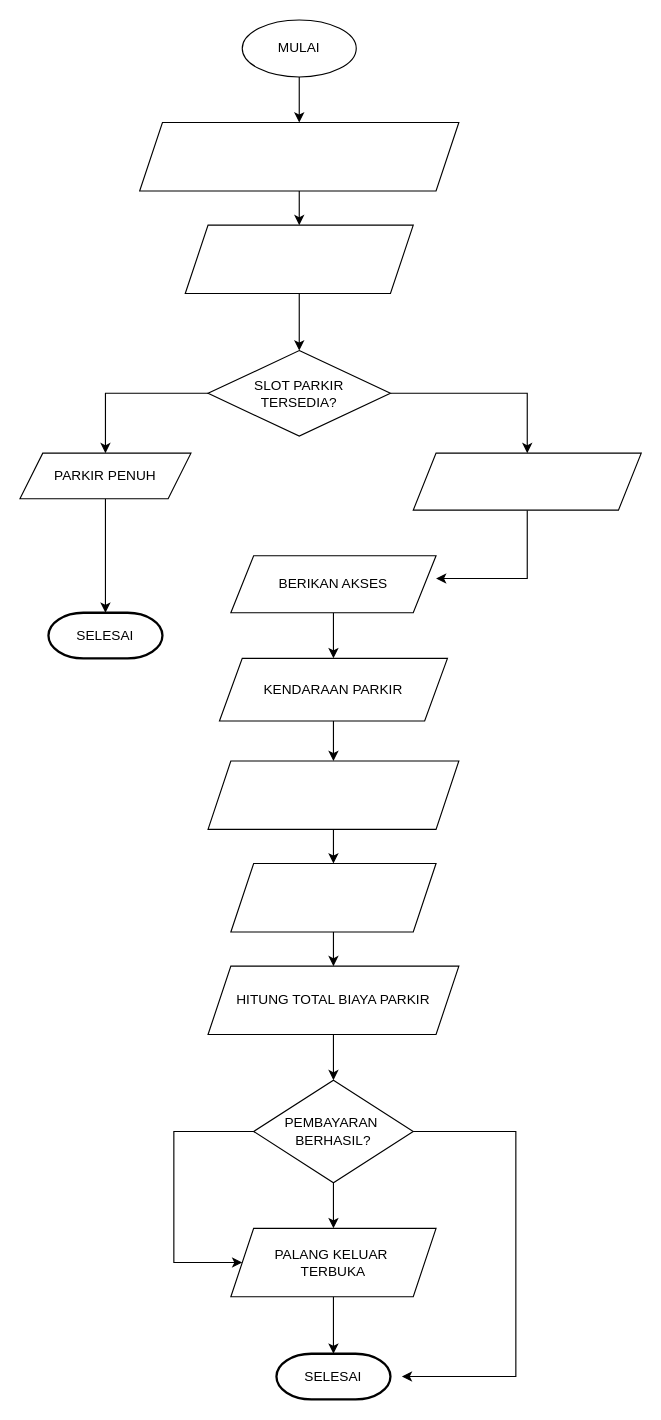
Image size: 661x1420. Some labels were removed from this diagram. Each missing label, with the centre of its shape:
"CATAT DATA MASUK" goes at [526,481].
"DETEKSI KENDARAAN (MOTOR/MOBIL)" goes at [298,259].
"INPUT IDENTIFIKASI" goes at [333,897].
"KENDARAAN KELUAR" goes at [333,794].
"KENDARAAN MASUK" goes at [299,156].
